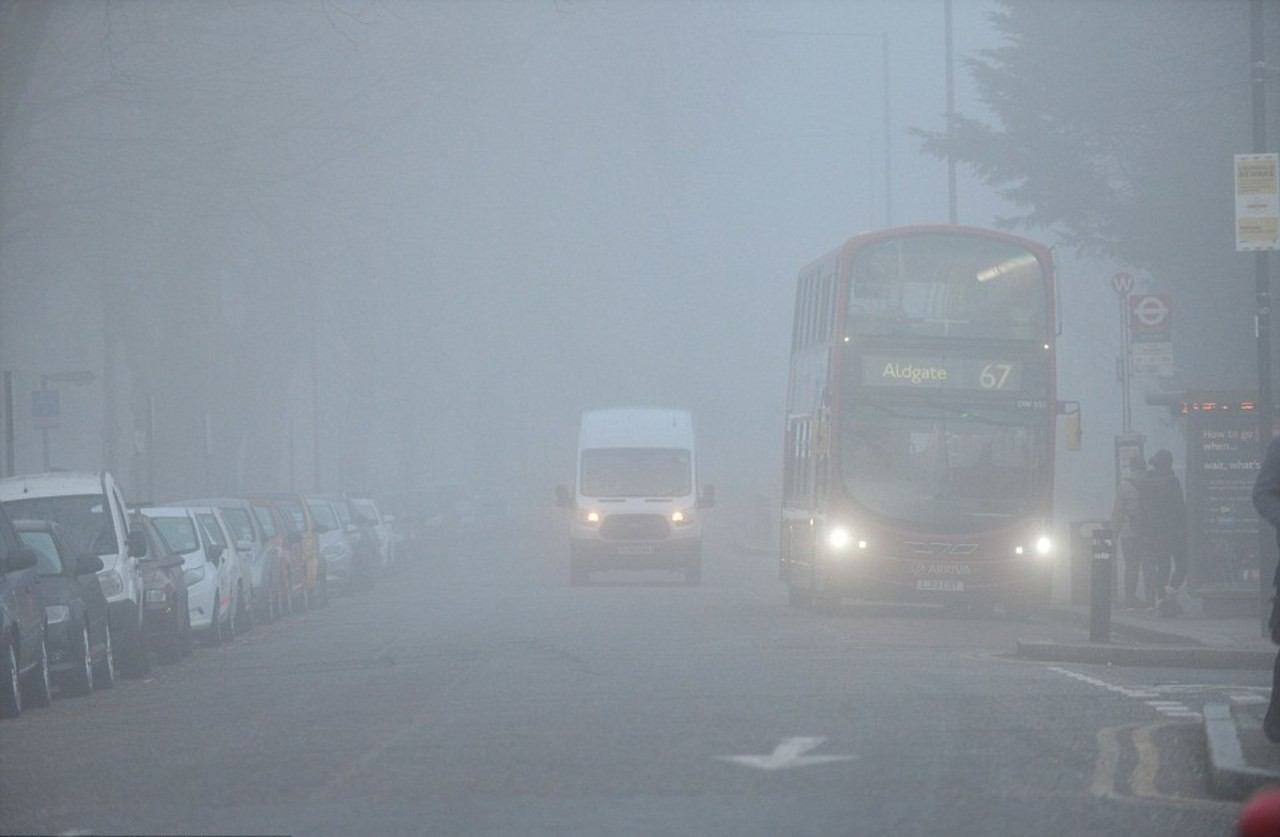bus: (774, 220, 1071, 636)
car: (0, 479, 143, 688), (563, 410, 713, 591), (24, 519, 117, 687), (138, 503, 237, 647), (126, 516, 187, 661), (219, 492, 262, 623), (310, 494, 345, 611), (276, 489, 304, 623), (346, 494, 373, 584), (262, 504, 283, 618), (362, 497, 392, 569)
person: (1144, 444, 1189, 615), (1111, 458, 1160, 613)
